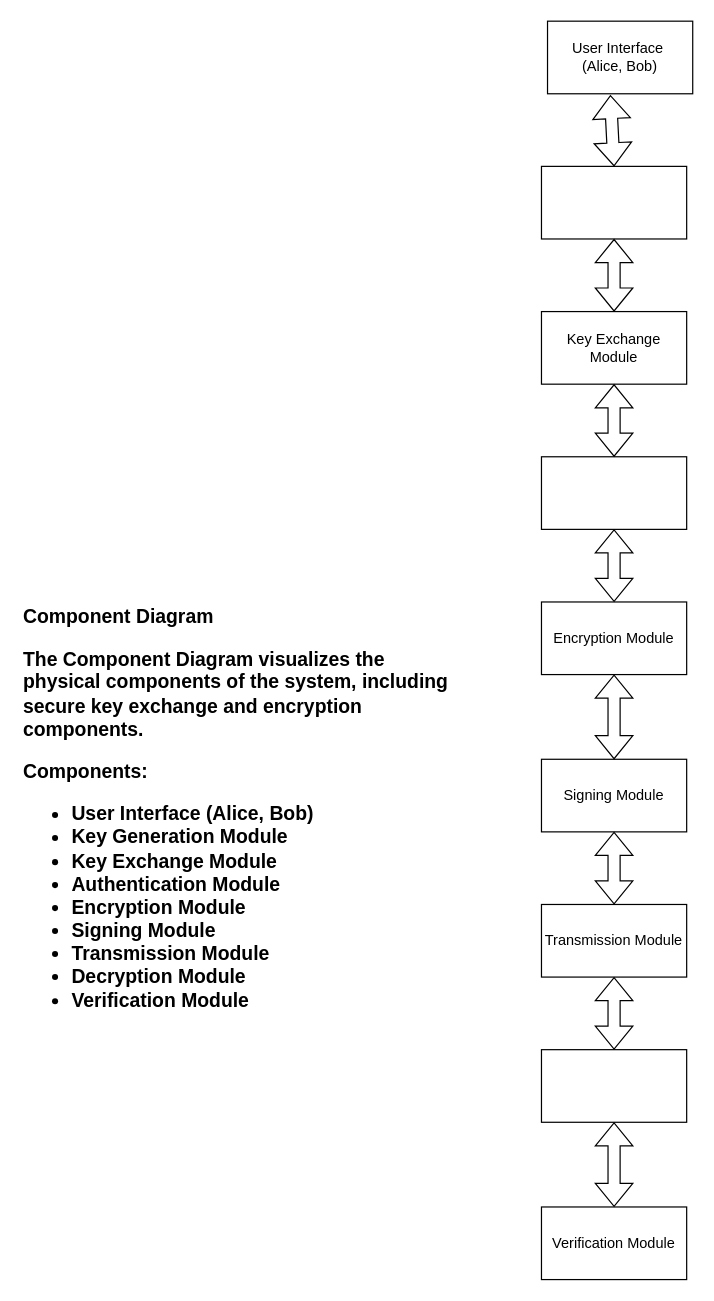
This 714x1301 diagram has some shape labels left out. The centre of each missing label's shape, as x and y in pixels:
Authentication Module: (x=613, y=492)
Decryption Module: (x=613, y=1085)
Key Generation Module: (x=613, y=202)
